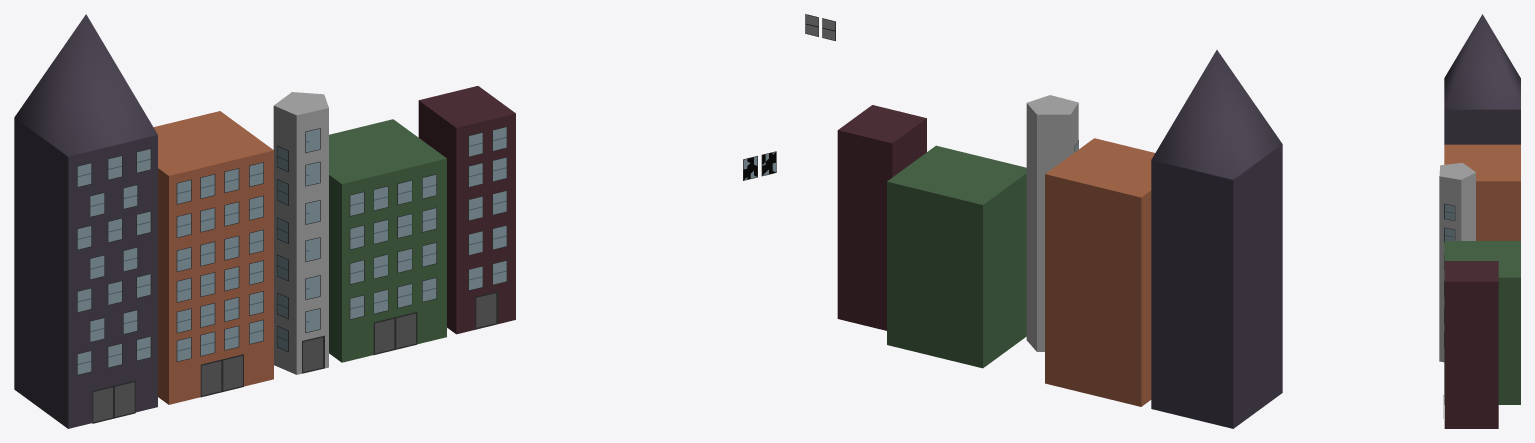
The model's file is buildings.fbx.
The picture shows the model from 3 angles, left to right: view 1: azimuth 30°, elevation 25°; view 2: azimuth 150°, elevation 25°; view 3: azimuth 270°, elevation 25°; orthographic projection. The views are drawn at different scales.
Parts seen in each view (by area): view 1: pCube66, pCube1, pCube41, pCube111, pCylinder1, pCube33, pCube70, pCube28, pCube121, pCube98; view 2: pCube66, pCube41, pCube1, pCube111, pCylinder1; view 3: pCube111, pCube66, pCube1, pCube41, pCylinder1.
Boxes of the visible parts, x1=… form: pCube66: x1=14, y1=14, x2=157, y2=428; pCube1: x1=153, y1=111, x2=273, y2=404; pCube41: x1=329, y1=119, x2=446, y2=362; pCube111: x1=418, y1=86, x2=515, y2=334; pCylinder1: x1=273, y1=92, x2=328, y2=374; pCube33: x1=373, y1=312, x2=417, y2=354; pCube70: x1=92, y1=380, x2=135, y2=423; pCube28: x1=200, y1=354, x2=243, y2=397; pCube121: x1=475, y1=291, x2=498, y2=329; pCube98: x1=302, y1=335, x2=324, y2=373; pCube66: x1=1151, y1=50, x2=1282, y2=428; pCube41: x1=887, y1=145, x2=1026, y2=368; pCube1: x1=1045, y1=138, x2=1154, y2=406; pCube111: x1=837, y1=105, x2=926, y2=330; pCylinder1: x1=1026, y1=95, x2=1078, y2=351; pCube111: x1=1444, y1=261, x2=1498, y2=428; pCube66: x1=1444, y1=14, x2=1520, y2=144; pCube1: x1=1444, y1=144, x2=1520, y2=240; pCube41: x1=1444, y1=241, x2=1520, y2=404; pCylinder1: x1=1439, y1=163, x2=1475, y2=362.
Bounding box in the file's own units: 33.43 × 19.99 × 13.85.
